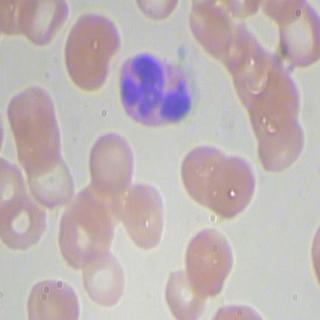RBC: (61, 10, 124, 98), (182, 224, 236, 298), (120, 176, 174, 250), (79, 244, 131, 310), (4, 84, 58, 146), (86, 128, 135, 194), (179, 142, 228, 208), (207, 152, 256, 218), (0, 188, 48, 254), (256, 110, 304, 176), (26, 152, 78, 210), (25, 270, 84, 318), (16, 0, 69, 48), (161, 264, 205, 320)
WBC: (112, 48, 195, 136)
